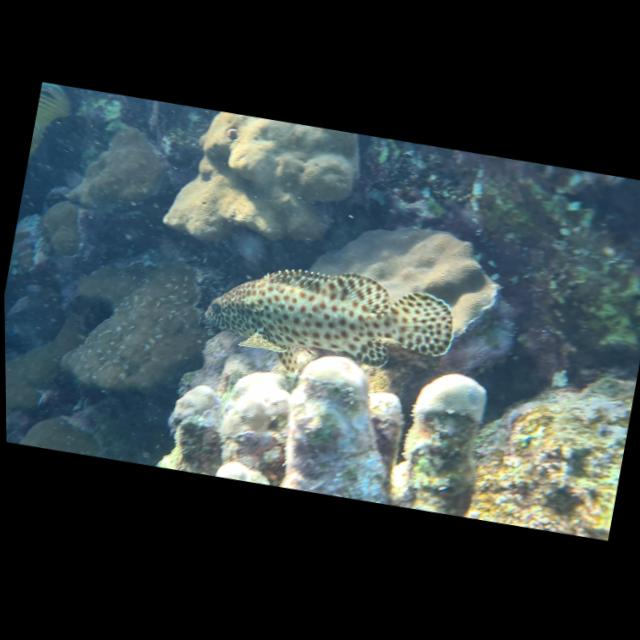Groupers: (192, 241, 464, 404)
